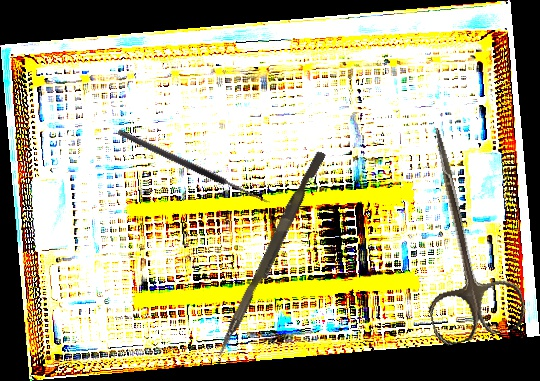Hook Surgical: (116, 121, 275, 207)
Iris Scissors: (386, 117, 530, 349)
Pusher: (214, 147, 327, 363)
